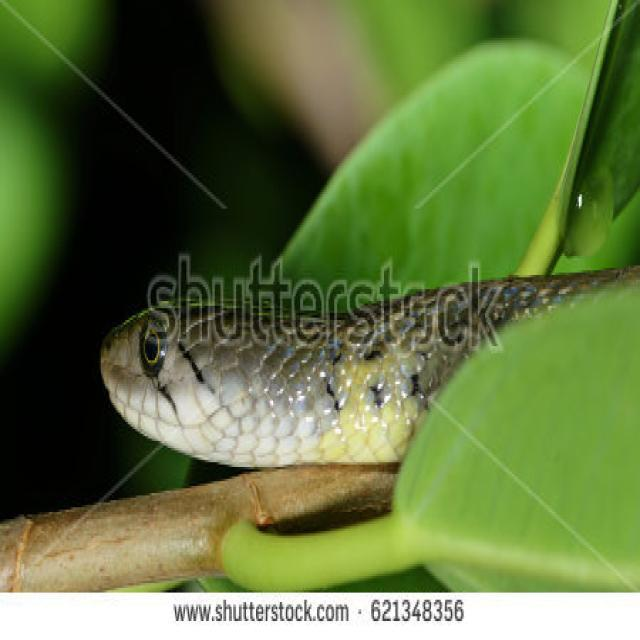Snake: (91, 262, 640, 464)
